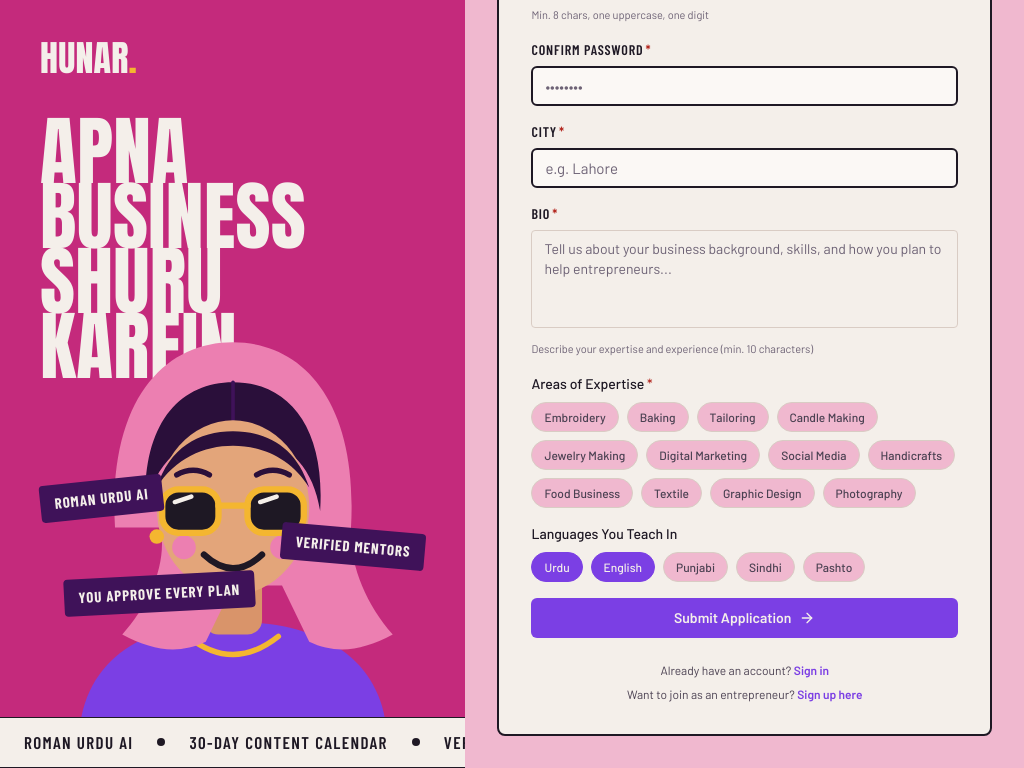
Test: MentorApplyPage › shows validation errors on empty submit
(page scrolled)
Click the button "Submit Application": (745, 618) x1=532 y1=598 x2=958 y2=638
(page scrolled)
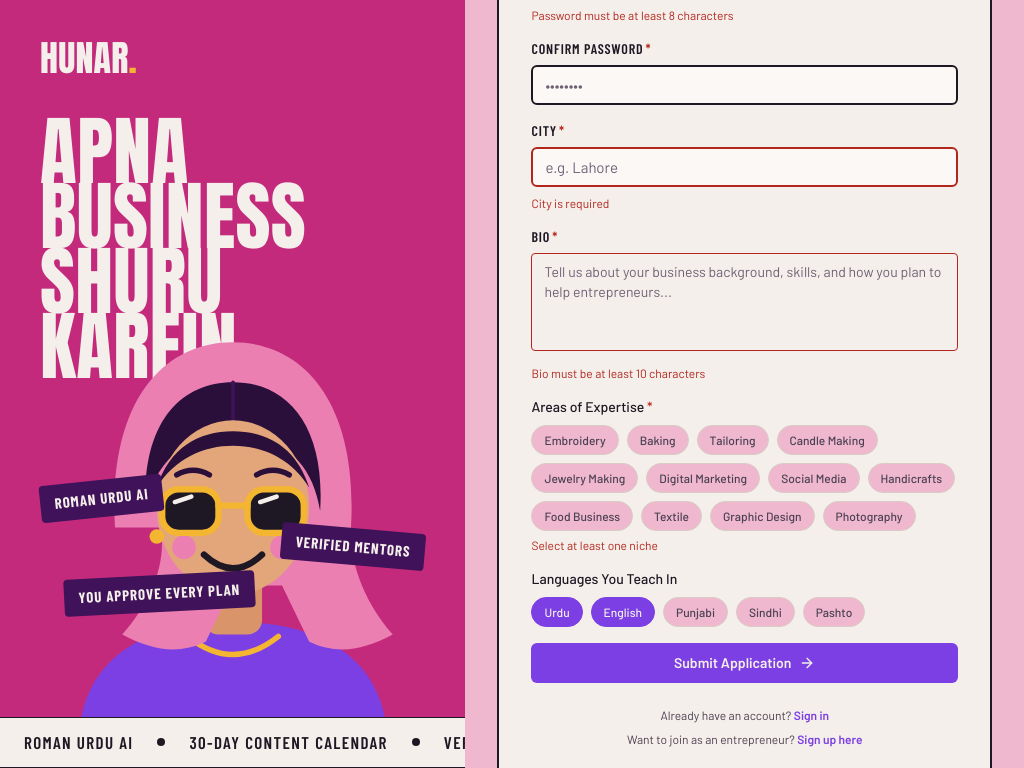
Expected: the text "Select at least one niche" is shown, x1=532 y1=538 x2=658 y2=552
